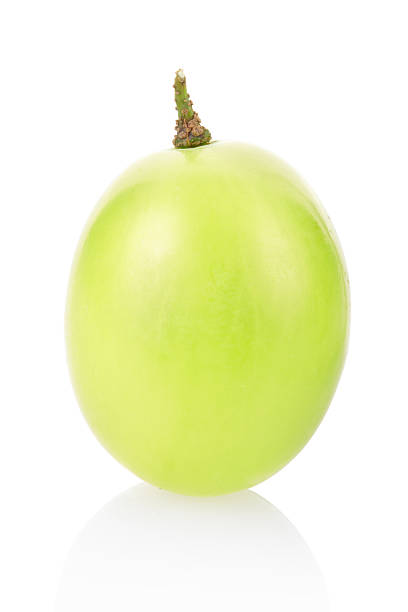grapes: (62, 28, 391, 499)
